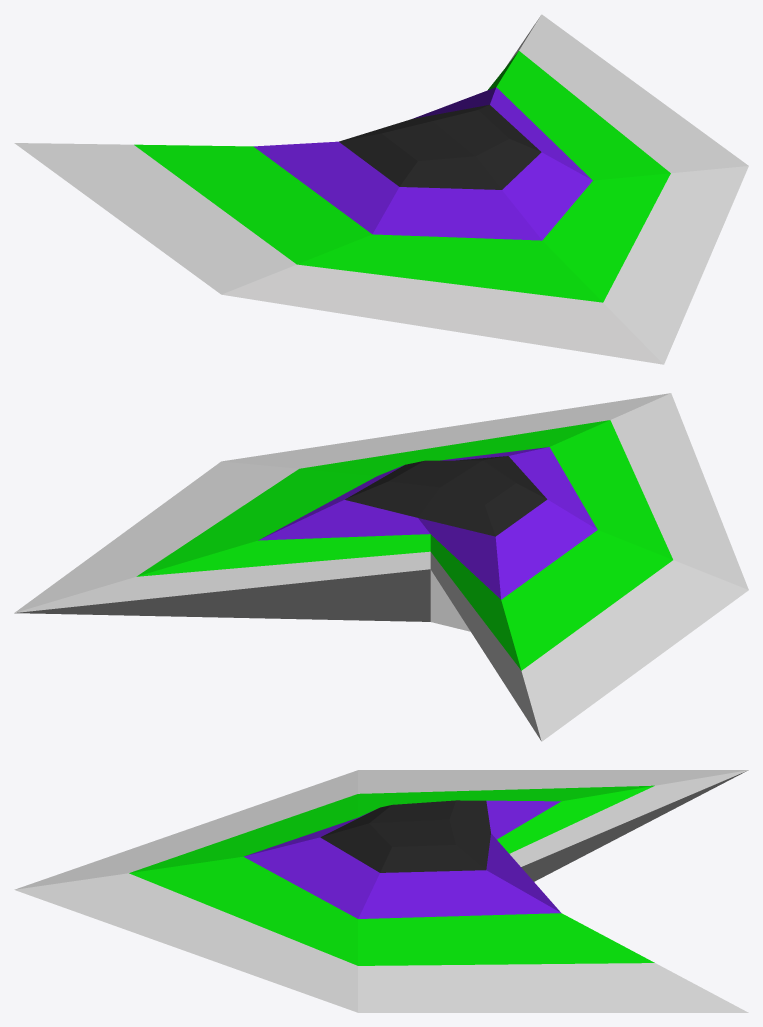
File: ZigZagEnemy.fbx
3 renders of one model, top to bottom at view 1: azimuth 30°, elevation 25°; view 2: azimuth 150°, elevation 25°; view 3: azimuth 270°, elevation 25°, orthographic. The views are drawn at different scales.
Parts seen in each view (by area): view 1: Cube; view 2: Cube; view 3: Cube.
Part boxes in pixels (x1,y1,x2,y2): Cube: [14, 14, 748, 364]; Cube: [14, 393, 748, 741]; Cube: [14, 770, 748, 1012].
Size of the model in its own units: 1047 by 242 by 1340.
